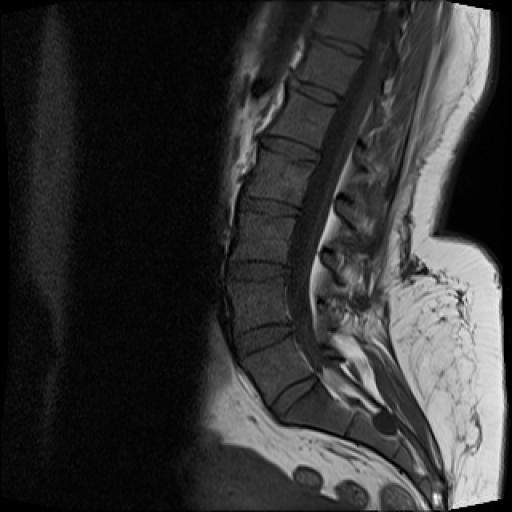L1: (269, 88, 336, 148)
L2: (246, 147, 317, 204)
L3: (231, 213, 297, 264)
L4: (225, 277, 292, 331)
L5: (239, 337, 312, 405)
S1: (279, 381, 353, 436)
